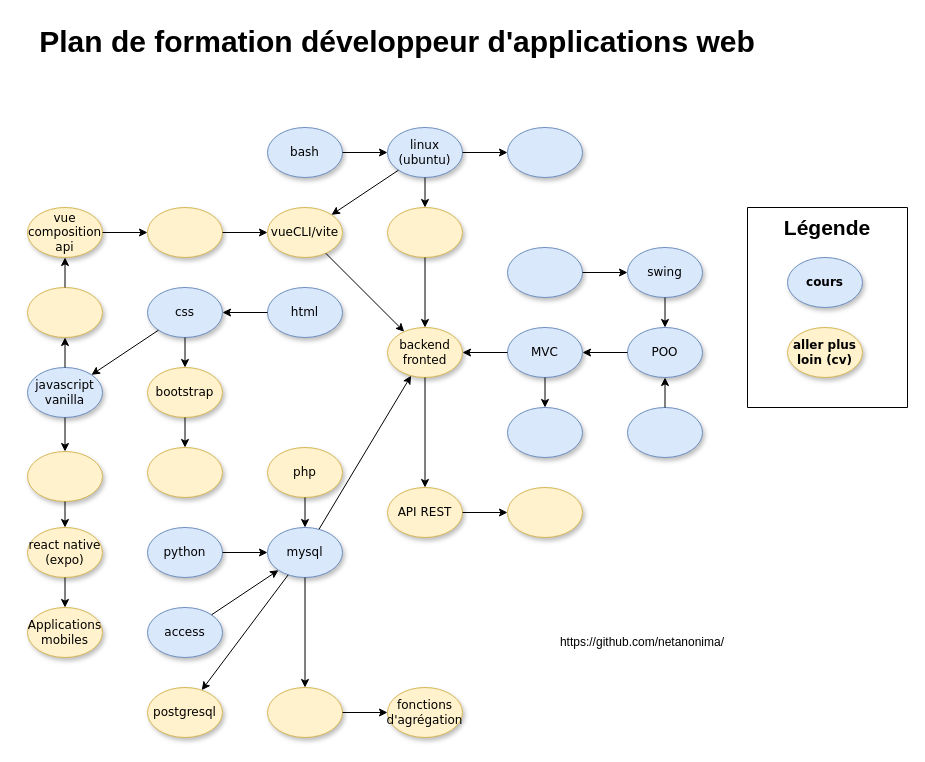
Some shapes in this 925 by 762 pixel diagram are drawn without their labels. Each missing label, with the centre of its shape:
"C#" goes at (665,433).
"github" goes at (545,153).
"graphQL" goes at (545,513).
"java" goes at (545,273).
"MVVM" goes at (545,433).
"oracle" goes at (305,713).
"react" goes at (65,477).
"ssh" goes at (425,233).
"tailwind" goes at (185,473).
"vue rooter" goes at (185,233).
"vuejs" goes at (65,313).
